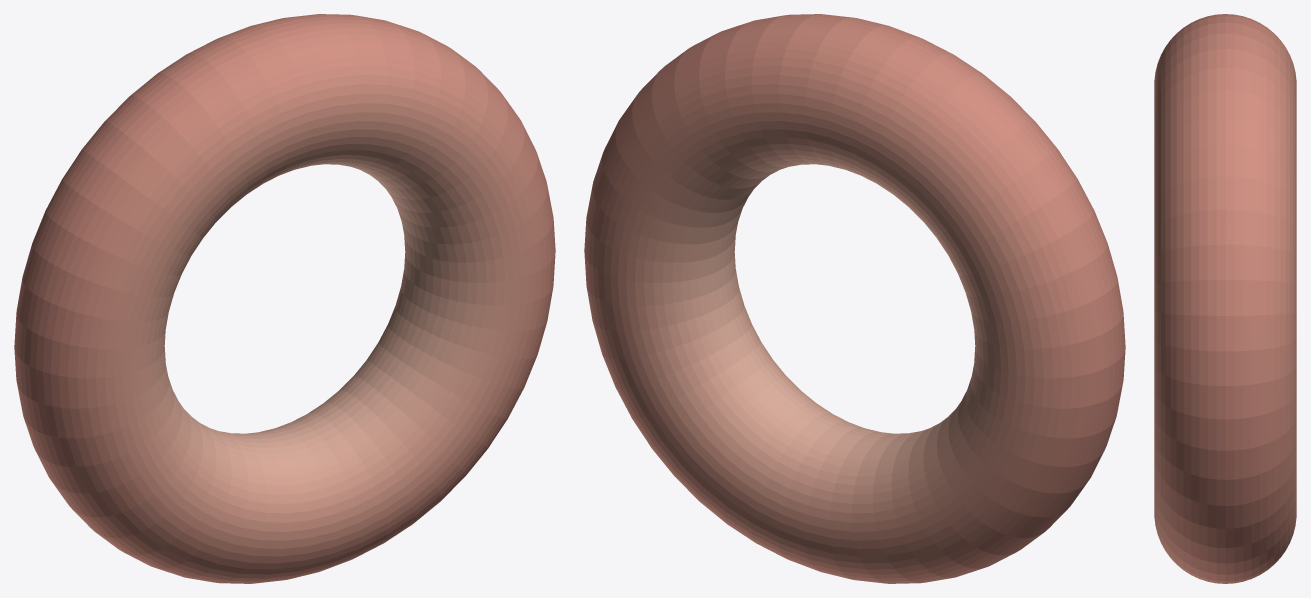
3 views of the same model, side by side, from view 1: azimuth 30°, elevation 25°; view 2: azimuth 150°, elevation 25°; view 3: azimuth 270°, elevation 25° (orthographic). The views are drawn at different scales.
Visible parts, largest first — view 1: world; view 2: world; view 3: world.
Boxes of the visible parts, <box> form: world: <box>14,14,555,583</box>; world: <box>584,14,1125,583</box>; world: <box>1154,14,1296,583</box>.
Bounding box in the file's own units: 29.33 × 29.28 × 7.32.
